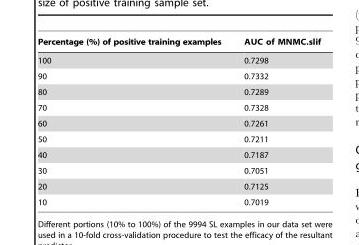table: (37, 37, 320, 206)
table column: (37, 37, 231, 206), (231, 37, 320, 206)
table column header: (37, 37, 320, 50)
table row: (37, 50, 320, 68), (37, 83, 320, 99), (37, 99, 320, 115), (37, 115, 320, 131), (37, 146, 320, 162), (37, 162, 320, 178), (37, 178, 320, 194), (37, 68, 320, 83), (37, 131, 320, 146), (37, 37, 320, 50), (37, 194, 320, 206)
